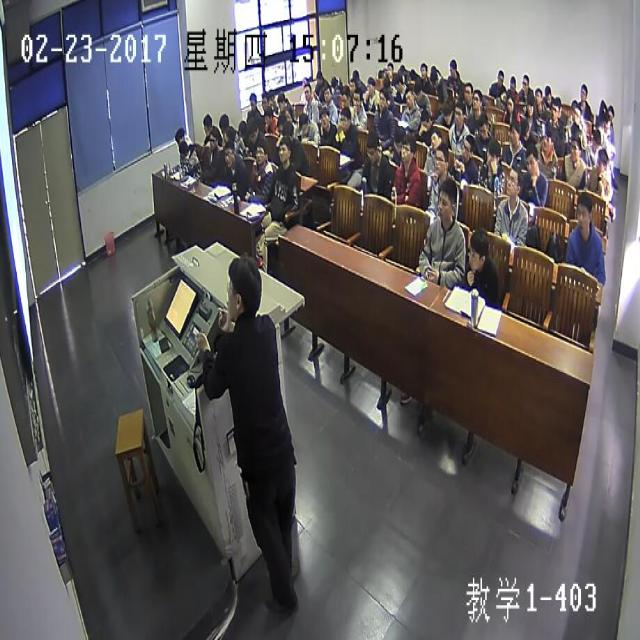person: (223, 251, 264, 327), (466, 224, 492, 274), (436, 176, 460, 226), (573, 192, 591, 236), (483, 140, 502, 177), (503, 164, 522, 200), (398, 136, 416, 171), (361, 132, 379, 164), (594, 146, 608, 180), (458, 132, 474, 161), (276, 136, 290, 167), (524, 145, 538, 176), (254, 138, 268, 168), (433, 144, 447, 174), (507, 116, 521, 146), (222, 141, 235, 170), (297, 109, 310, 137), (440, 95, 453, 123), (429, 128, 443, 154), (539, 126, 552, 153), (275, 111, 287, 140), (207, 126, 220, 152), (234, 115, 247, 141), (282, 120, 295, 146), (216, 109, 228, 137), (470, 87, 482, 115), (549, 95, 561, 123), (246, 117, 259, 142), (172, 125, 186, 148), (200, 112, 212, 138), (318, 106, 330, 132), (338, 108, 350, 134), (393, 126, 406, 150), (452, 102, 464, 128), (477, 115, 489, 141), (569, 136, 580, 163), (462, 80, 473, 106), (577, 78, 588, 104), (246, 91, 258, 114), (259, 87, 270, 111), (419, 110, 430, 133), (504, 94, 516, 115), (519, 116, 529, 140), (448, 55, 458, 78), (590, 126, 599, 151), (313, 66, 324, 86), (519, 71, 530, 91), (524, 95, 535, 115), (604, 102, 615, 122), (351, 88, 360, 112), (495, 66, 504, 90), (543, 82, 552, 106), (340, 85, 349, 108), (404, 84, 413, 107), (178, 140, 188, 160), (224, 124, 234, 144), (282, 104, 292, 124), (376, 89, 387, 107), (392, 74, 403, 92), (268, 85, 277, 106), (276, 90, 285, 110), (303, 81, 312, 101), (366, 78, 375, 98), (429, 66, 438, 86), (533, 86, 542, 106), (329, 72, 338, 91), (350, 69, 360, 86), (347, 74, 355, 95), (413, 78, 421, 99), (508, 71, 516, 92), (602, 116, 610, 135), (323, 84, 330, 105), (377, 65, 386, 81), (572, 104, 580, 122), (300, 74, 308, 90), (386, 59, 393, 77), (595, 114, 602, 132), (419, 59, 426, 76), (448, 55, 451, 80)
